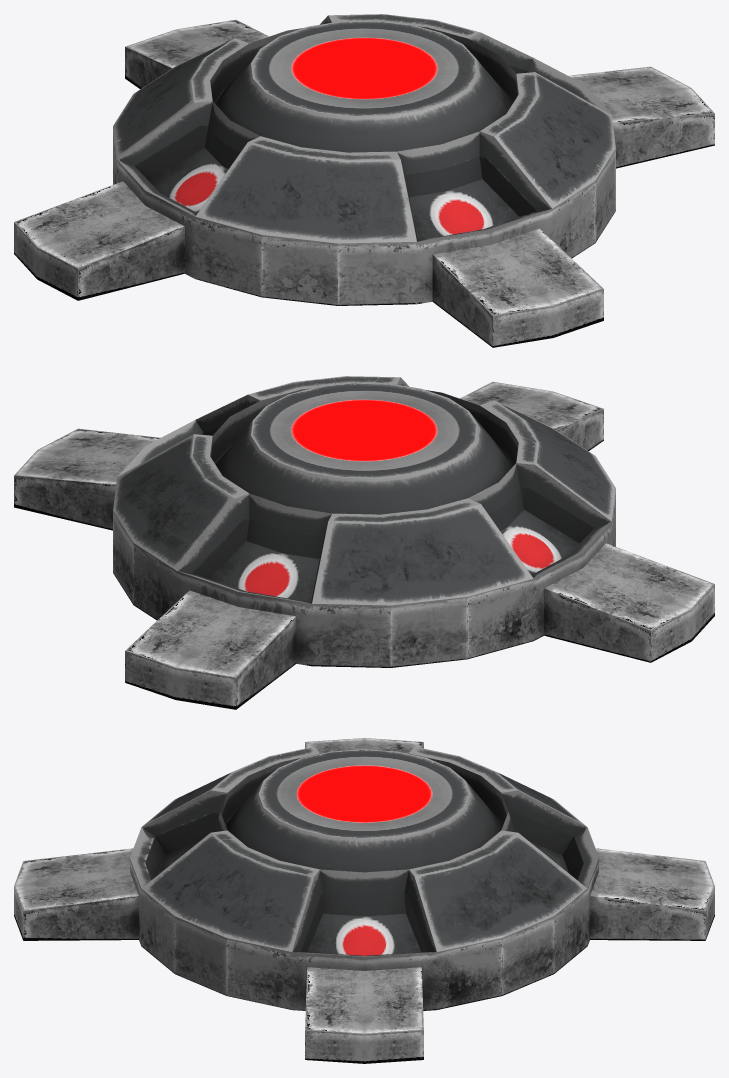
File: asset.glb
3 views of the same model, one above another, from view 1: azimuth 30°, elevation 25°; view 2: azimuth 150°, elevation 25°; view 3: azimuth 270°, elevation 25° (orthographic). The views are drawn at different scales.
Visible parts, largest first — view 1: polySurface7; view 2: polySurface7; view 3: polySurface7.
Part boxes in pixels (x1=…): polySurface7: x1=14, y1=14, x2=714, y2=347; polySurface7: x1=14, y1=376, x2=714, y2=709; polySurface7: x1=14, y1=738, x2=714, y2=1063.
Size of the model in its own units: 927 by 178 by 927.
Materials: 1 (1 with a texture image).
